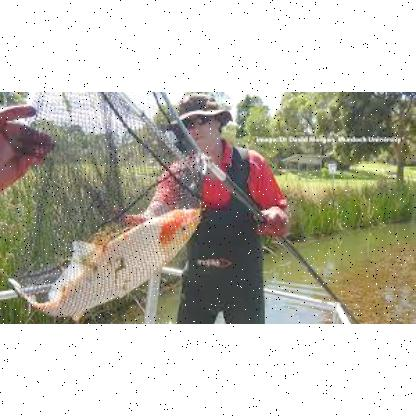ikan-mas: (17, 198, 200, 320)
